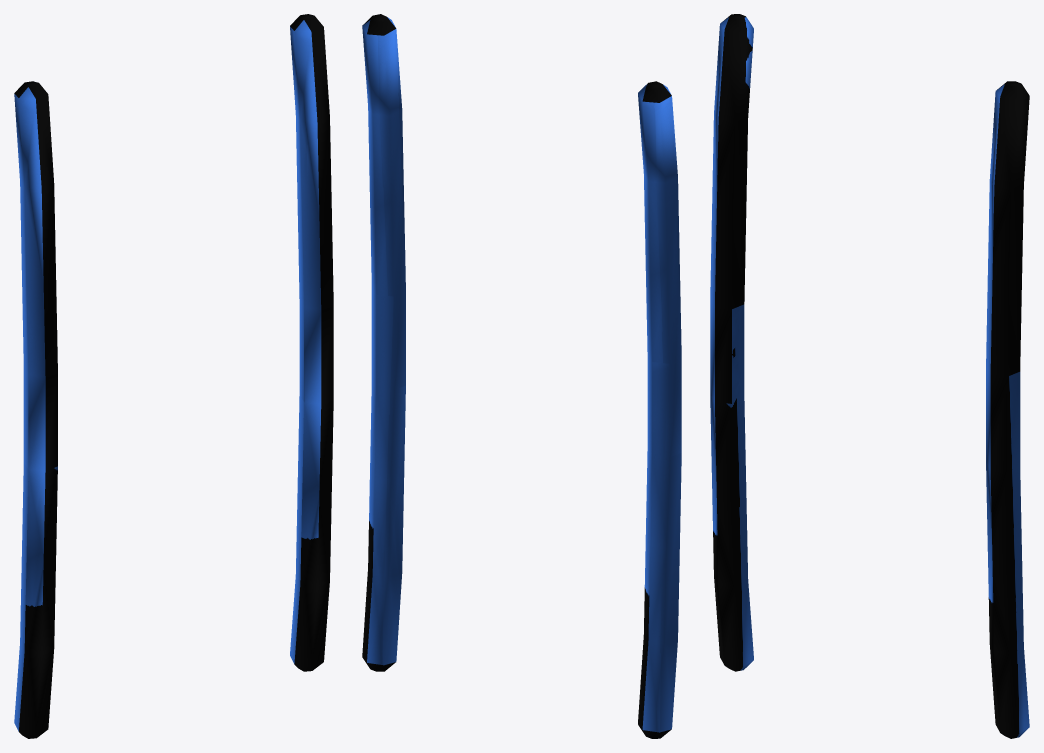
Rendered from Centinela_GrebaDer_Liga.fbx.
3 renders of one model, left to right at view 1: azimuth 30°, elevation 25°; view 2: azimuth 150°, elevation 25°; view 3: azimuth 330°, elevation 25°, orthographic.
Visible parts, largest first — view 1: Centinela_GrebaDer_Liga; view 2: Centinela_GrebaDer_Liga; view 3: Centinela_GrebaDer_Liga.
Part boxes in pixels (box(x1,y1,x2,y2)): Centinela_GrebaDer_Liga: box(14, 14, 333, 738); Centinela_GrebaDer_Liga: box(362, 14, 681, 738); Centinela_GrebaDer_Liga: box(710, 14, 1029, 738).
Bounding box in the file's own units: 0.2773 × 0.5663 × 0.042.
